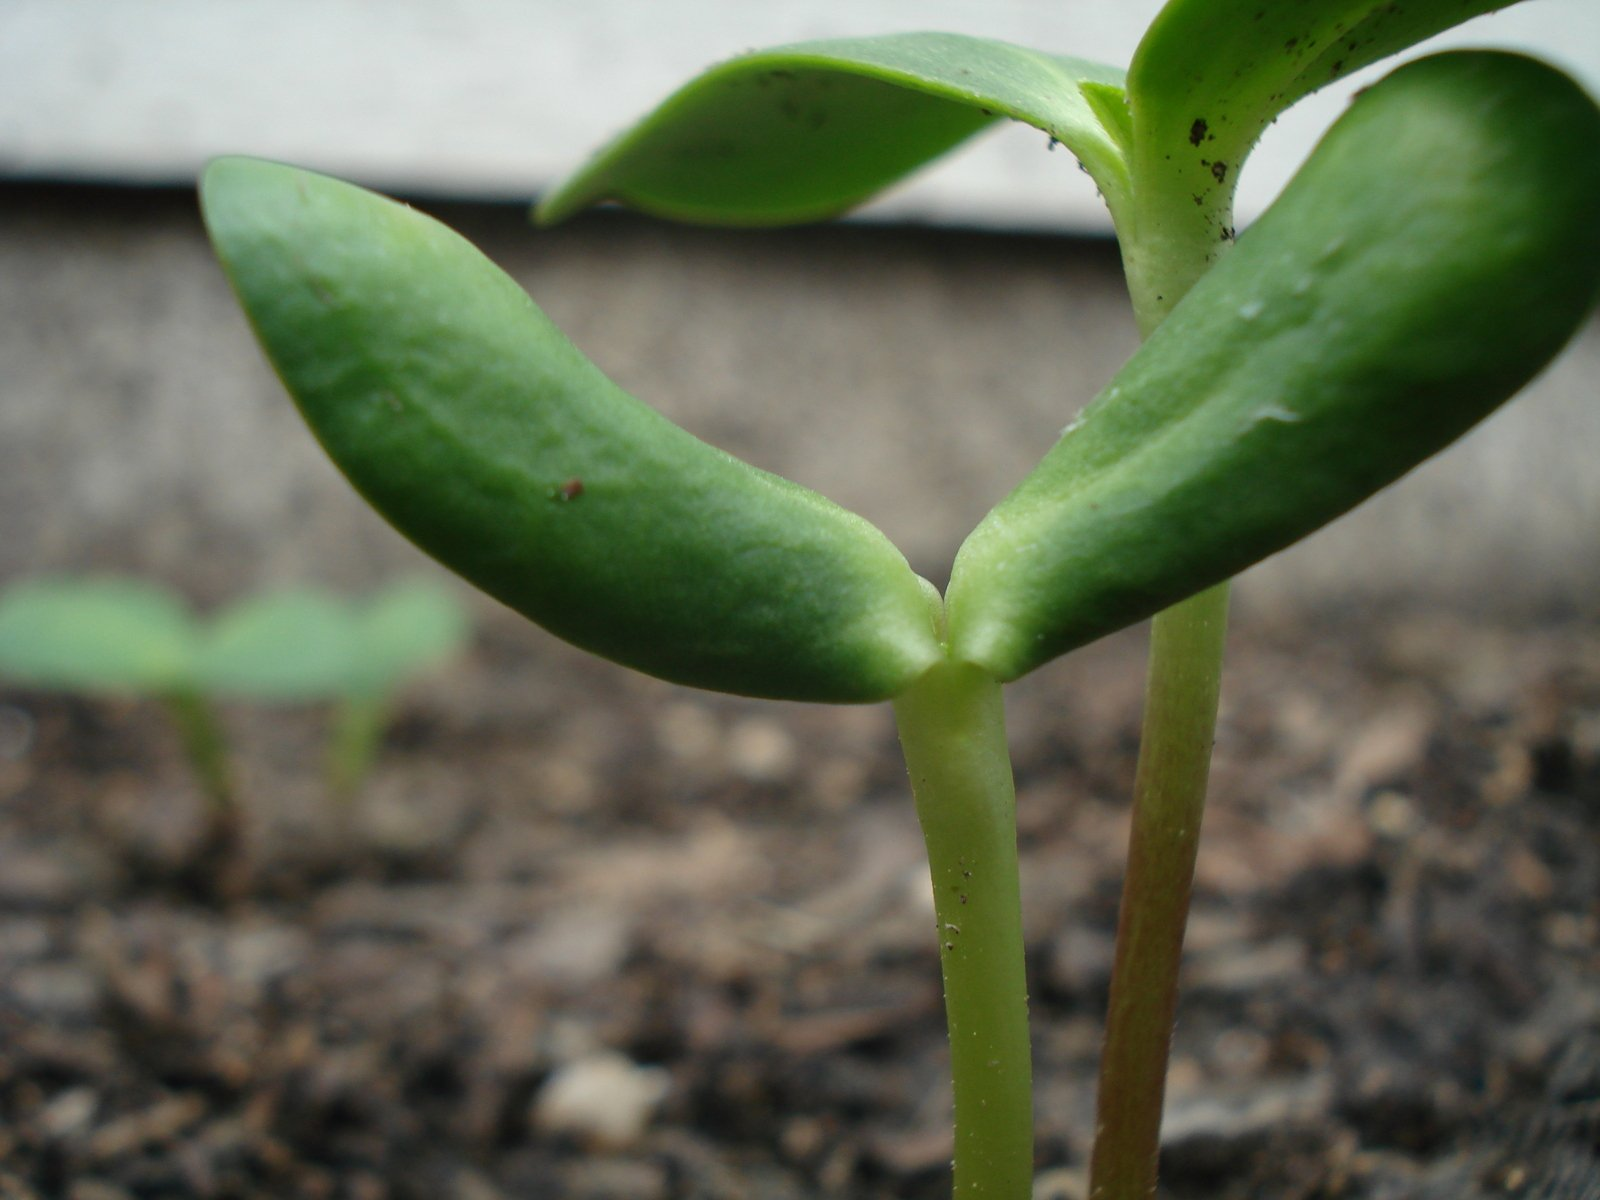girasol5-12dias: (147, 110, 1545, 1187)
